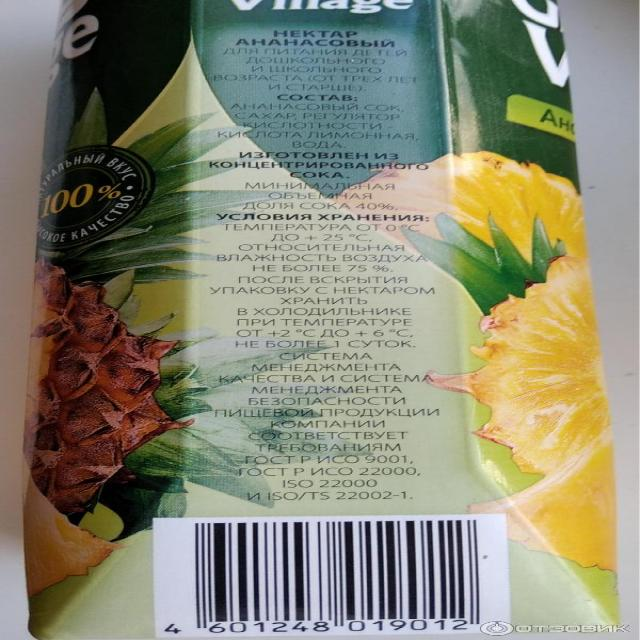Juice Global Village pineapple: (39, 4, 639, 622)
